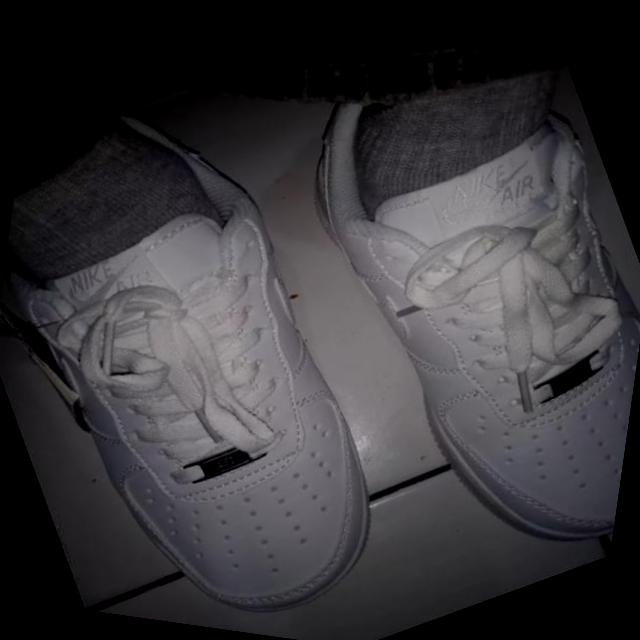nike_fake_airforce: (0, 35, 472, 640), (222, 0, 640, 607)
